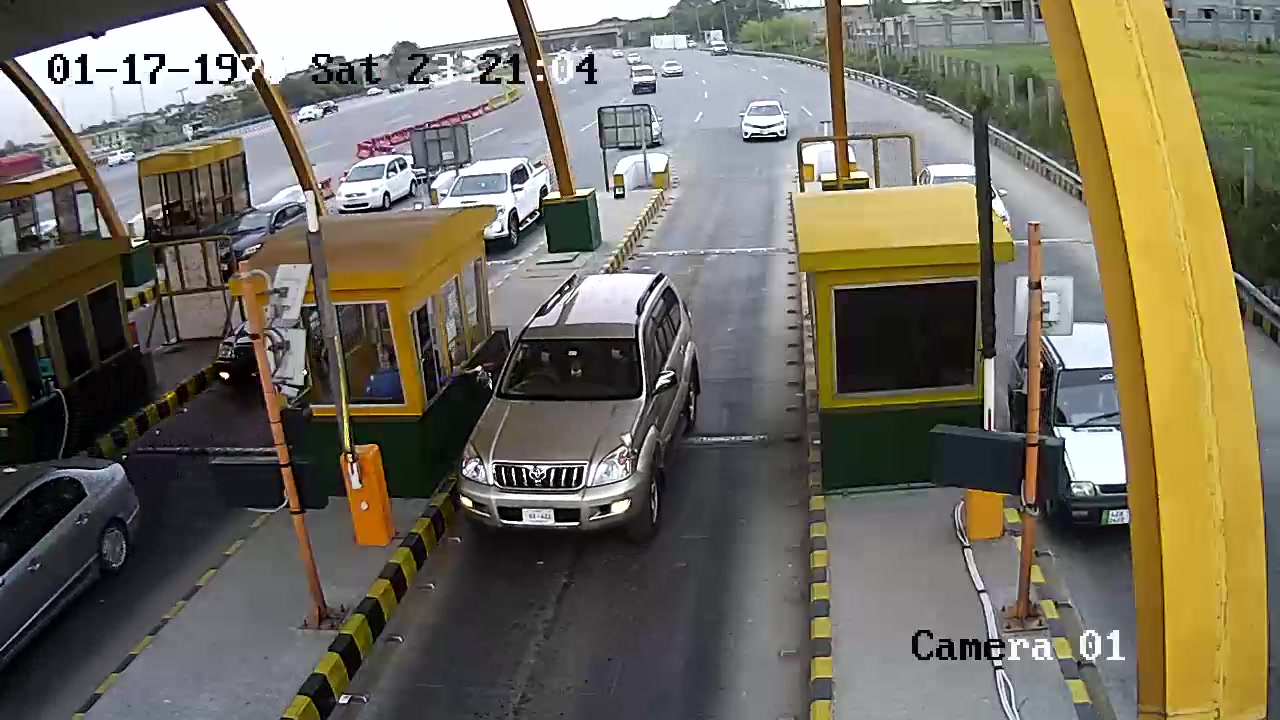F1: (454, 264, 713, 560)
